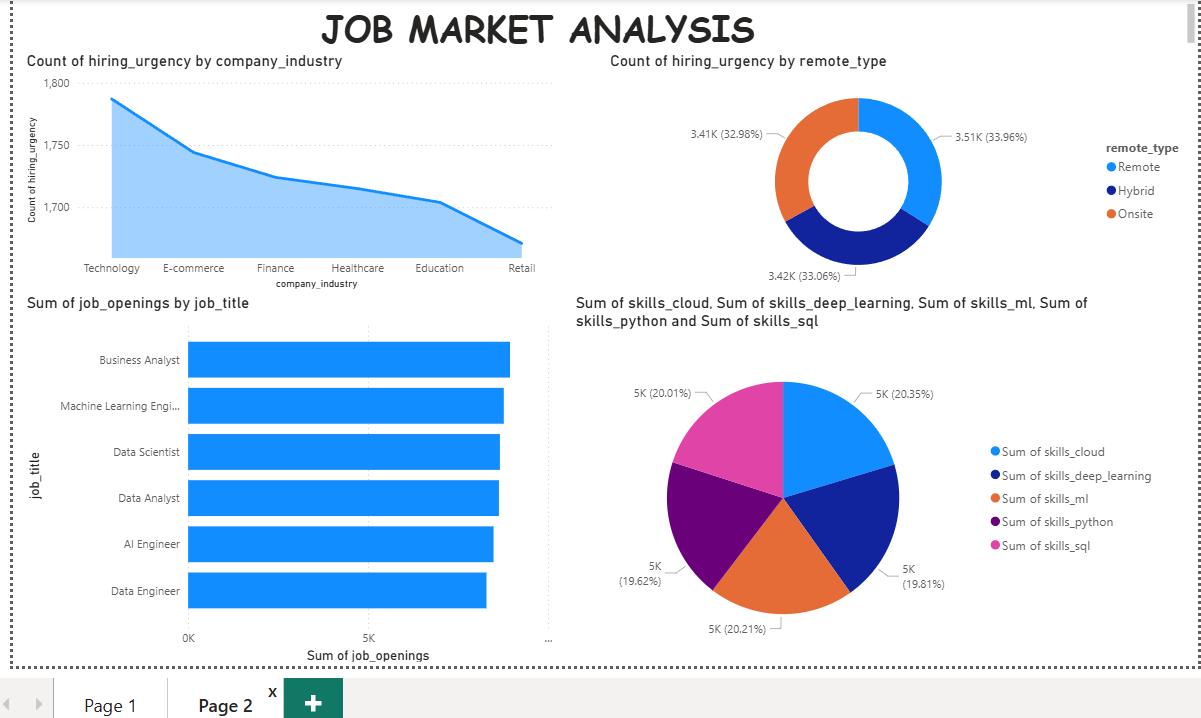

The dashboard page shown, as its layout file describes it:
{"tool":"powerbi","page":{"name":"Page 2","canvas":[1280,720],"ordinal":1},"visuals":[{"type":"stackedAreaChart","fields":{"Category":["clean_jobs_data.company_industry"],"Y":["CountNonNull(clean_jobs_data.hiring_urgency)"]},"box":[9.7,56.7,579.7,260.7],"z":0},{"type":"barChart","fields":{"Category":["clean_jobs_data.job_title"],"Y":["Sum(clean_jobs_data.job_openings)"]},"box":[9.7,317.4,579.7,403.2],"z":1000},{"type":"pieChart","fields":{"Y":["Sum(clean_jobs_data.skills_cloud)","Sum(clean_jobs_data.skills_deep_learning)","Sum(clean_jobs_data.skills_ml)","Sum(clean_jobs_data.skills_python)","Sum(clean_jobs_data.skills_sql)"]},"box":[602.4,317.4,641.2,403.2],"z":2000},{"type":"donutChart","fields":{"Category":["clean_jobs_data.remote_type"],"Y":["CountNonNull(clean_jobs_data.hiring_urgency)"]},"box":[639.6,56.7,641.2,260.7],"z":3000},{"type":"textbox","box":[100.4,0,1180.4,56.7],"z":3001}]}

Visuals, with their boxes on the page's 1280x720 design canvas (x1, y1, x2, y2). These are canvas units, not pixel positions in the 1201x718 screenshot, which may show the page scaled, cropped or inside an application window:
stackedAreaChart - clean_jobs_data.company_industry x CountNonNull(clean_jobs_data.hiring_urgency): pyautogui.locateOnScreen(10, 57, 589, 317)
barChart - clean_jobs_data.job_title x Sum(clean_jobs_data.job_openings): pyautogui.locateOnScreen(10, 317, 589, 721)
pieChart - Sum(clean_jobs_data.skills_cloud) x Sum(clean_jobs_data.skills_deep_learning): pyautogui.locateOnScreen(602, 317, 1244, 721)
donutChart - clean_jobs_data.remote_type x CountNonNull(clean_jobs_data.hiring_urgency): pyautogui.locateOnScreen(640, 57, 1281, 317)
textbox: pyautogui.locateOnScreen(100, 0, 1281, 57)
